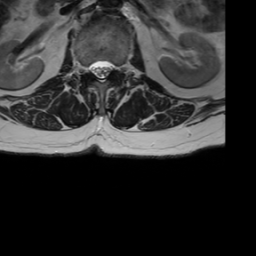CCS_normal: (98, 51, 106, 88)
LFS_stenosis: (114, 55, 122, 79)
LLS_normal: (106, 52, 114, 82)
RFS_normal: (81, 55, 89, 79)
RLS_normal: (89, 54, 98, 81)
